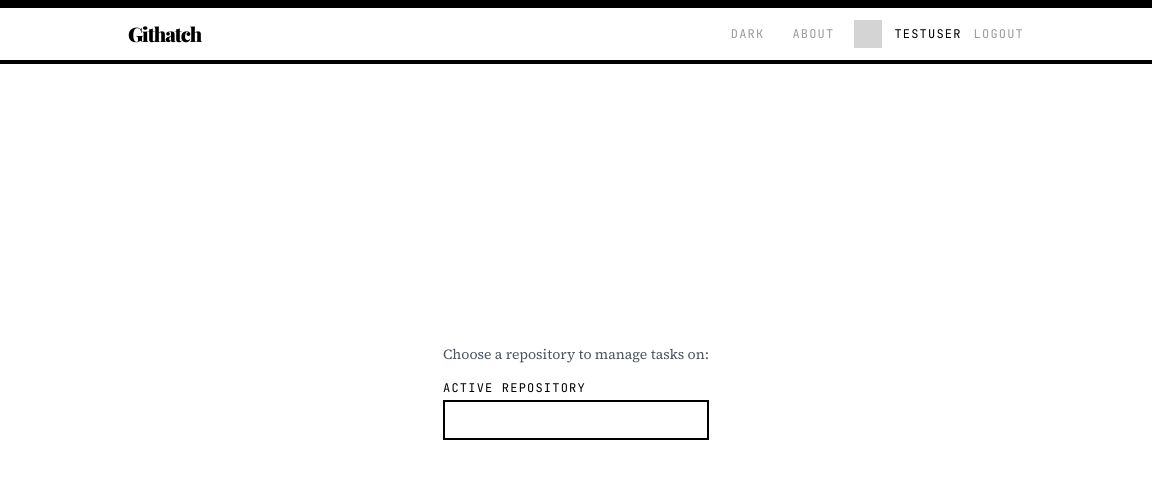
Test: App — authenticated, no repo selected › lists available repos in the picker
The width and height of the screenshot is (1152, 501).
Focus the dropdown labelled "Active repository": (576,420) left=443, top=400, right=709, bottom=440
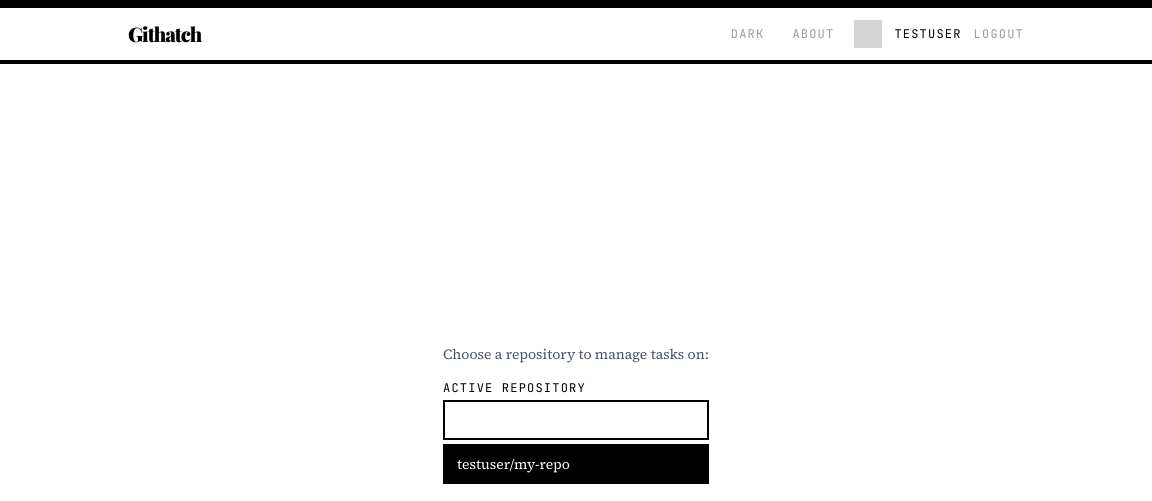
expect the option "testuser/my-repo" is shown: met, box left=445, top=446, right=707, bottom=482
